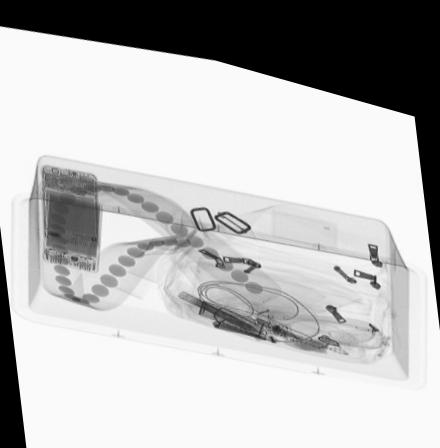Powerbank: (42, 187, 100, 265)
